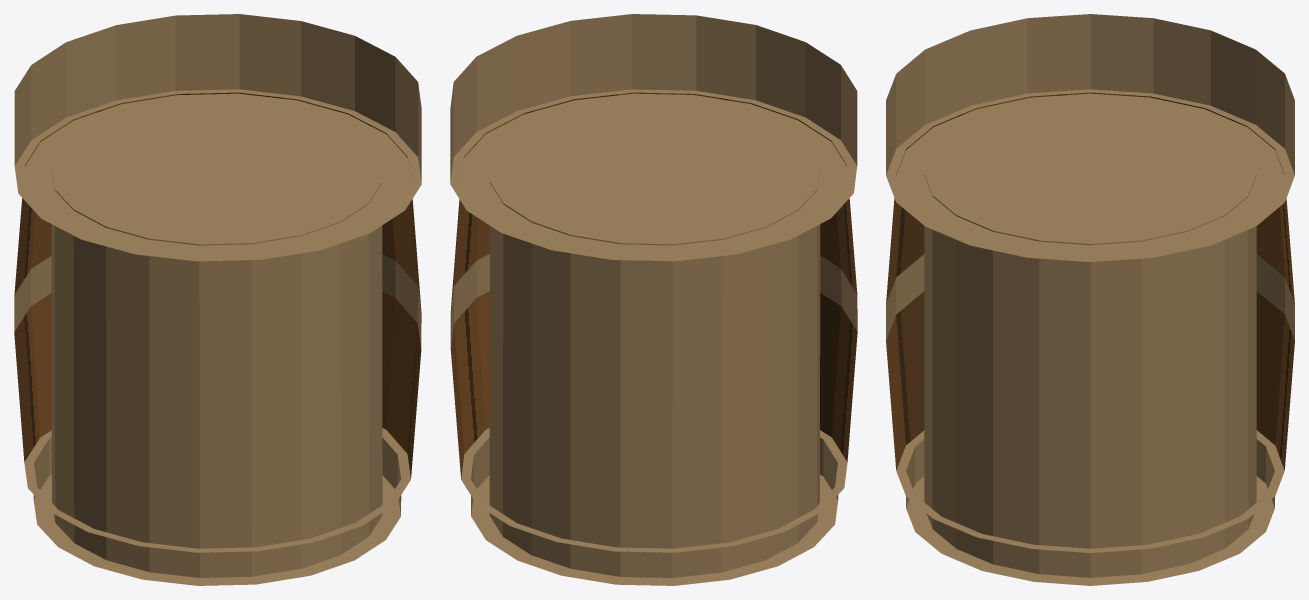
3 views of the same model, side by side, from view 1: azimuth 30°, elevation 25°; view 2: azimuth 150°, elevation 25°; view 3: azimuth 270°, elevation 25° (orthographic).
Parts seen in each view (by area): view 1: 005_L_248900_PART_1; view 2: 005_L_248900_PART_1; view 3: 005_L_248900_PART_1.
Part boxes in pixels (x1,y1,x2,y2): 005_L_248900_PART_1: (14, 14, 421, 585); 005_L_248900_PART_1: (450, 14, 857, 585); 005_L_248900_PART_1: (886, 14, 1294, 585).
Size of the model in its own units: 1.6 by 1.76 by 1.6.
3 materials, 2 textured.
